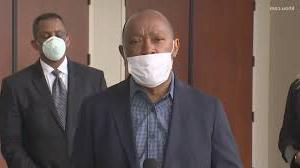mask_weared_incorrect: (126, 23, 171, 87)
with_mask: (41, 27, 67, 61)
